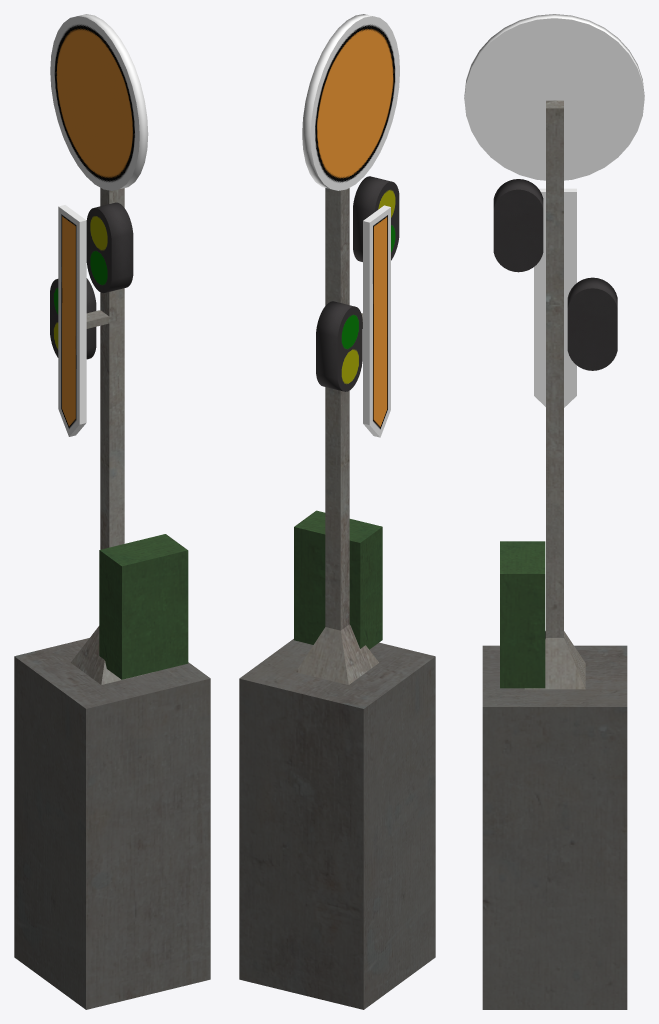
The model's file is formsignal_vo.glb.
The picture shows the model from 3 angles, left to right: view 1: azimuth 30°, elevation 25°; view 2: azimuth 150°, elevation 25°; view 3: azimuth 270°, elevation 25°; orthographic projection.
Visible parts, largest first — view 1: signalmast, scheibe, pfeil, licht2, licht1; view 2: signalmast, scheibe, pfeil, licht1, licht2; view 3: signalmast, scheibe, licht1, licht2, pfeil.
Boxes of the visible parts, x1,y1,x2,y2 form: signalmast: [14, 188, 210, 1009]; scheibe: [50, 14, 148, 190]; pfeil: [58, 205, 86, 436]; licht2: [86, 202, 133, 292]; licht1: [50, 278, 96, 359]; signalmast: [239, 188, 435, 1009]; scheibe: [302, 14, 399, 190]; pfeil: [363, 205, 390, 437]; licht1: [316, 301, 362, 391]; licht2: [353, 176, 399, 261]; signalmast: [482, 100, 627, 1009]; scheibe: [464, 14, 644, 180]; licht1: [567, 277, 617, 370]; licht2: [493, 179, 543, 272]; pfeil: [534, 188, 576, 407].
Bounding box in the file's own units: 0.6365 × 4.64 × 0.7917.
Materials: 5 (5 with a texture image).
